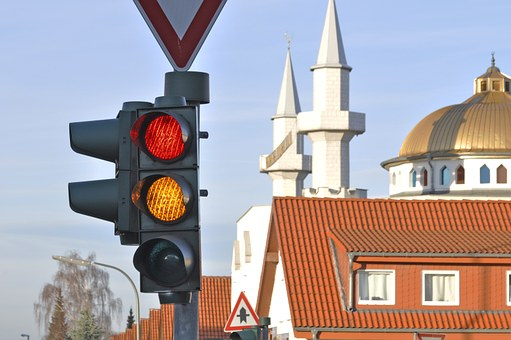trafic: (127, 87, 199, 291)
